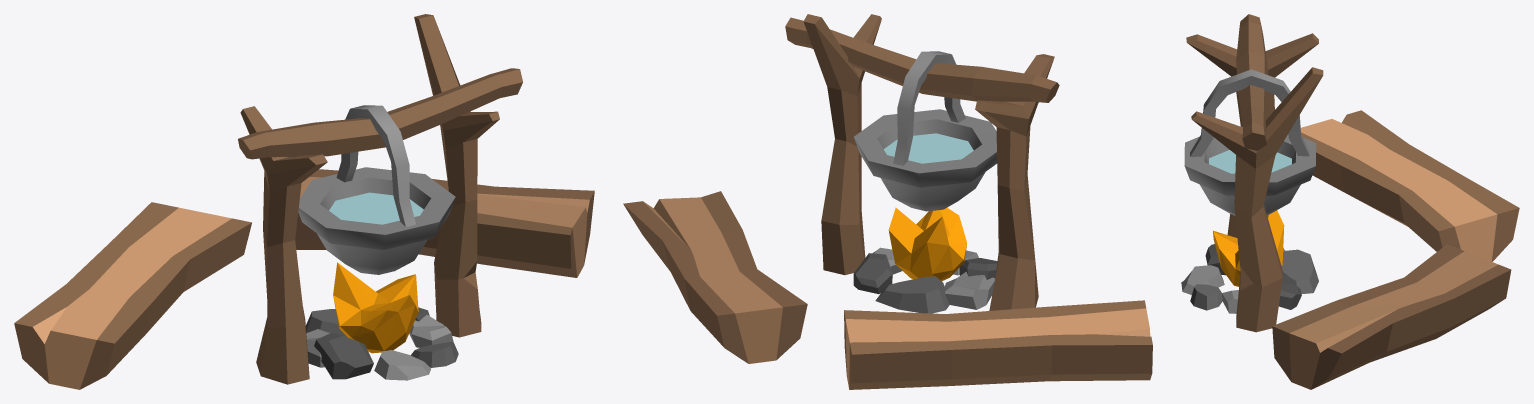
File: Сamping.fbx
3 views of the same model, side by side, from view 1: azimuth 30°, elevation 25°; view 2: azimuth 150°, elevation 25°; view 3: azimuth 270°, elevation 25° (orthographic). The views are drawn at different scales.
Parts seen in each view (by area): view 1: Camp_lvl_1; view 2: Camp_lvl_1; view 3: Camp_lvl_1.
Part boxes in pixels (left/top/right/bottom): Camp_lvl_1: left=14, top=14, right=594, bottom=389; Camp_lvl_1: left=623, top=14, right=1152, bottom=389; Camp_lvl_1: left=1181, top=14, right=1519, bottom=389.
Bounding box in the file's own units: 436 × 209 × 254.
